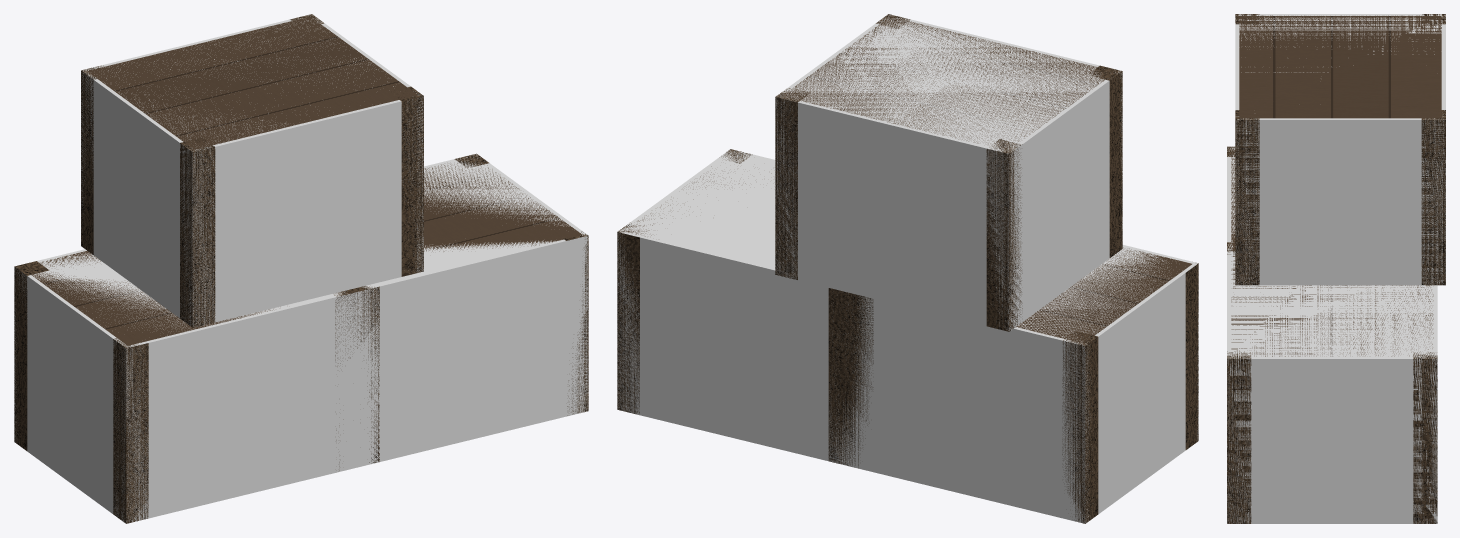
The model's file is crate_stack.glb.
The picture shows the model from 3 angles, left to right: view 1: azimuth 30°, elevation 25°; view 2: azimuth 150°, elevation 25°; view 3: azimuth 270°, elevation 25°; orthographic projection. The views are drawn at different scales.
Parts seen in each view (by area): view 1: COL_HULL_crates, crate_stack, COL_HULL_crate_top; view 2: COL_HULL_crates, COL_HULL_crate_top, crate_stack; view 3: COL_HULL_crates, crate_stack, COL_HULL_crate_top.
Boxes of the visible parts, x1=… form: COL_HULL_crates: x1=14, y1=154, x2=588, y2=523; crate_stack: x1=14, y1=14, x2=588, y2=523; COL_HULL_crate_top: x1=81, y1=14, x2=423, y2=327; COL_HULL_crates: x1=617, y1=149, x2=1198, y2=523; COL_HULL_crate_top: x1=775, y1=15, x2=1122, y2=331; crate_stack: x1=617, y1=14, x2=1198, y2=523; COL_HULL_crates: x1=1227, y1=147, x2=1437, y2=523; crate_stack: x1=1227, y1=14, x2=1445, y2=523; COL_HULL_crate_top: x1=1235, y1=14, x2=1445, y2=285.
Size of what is drawn, in the model's own units: 1.24 by 0.9 by 0.54.
Materials: 2 (2 with a texture image).
